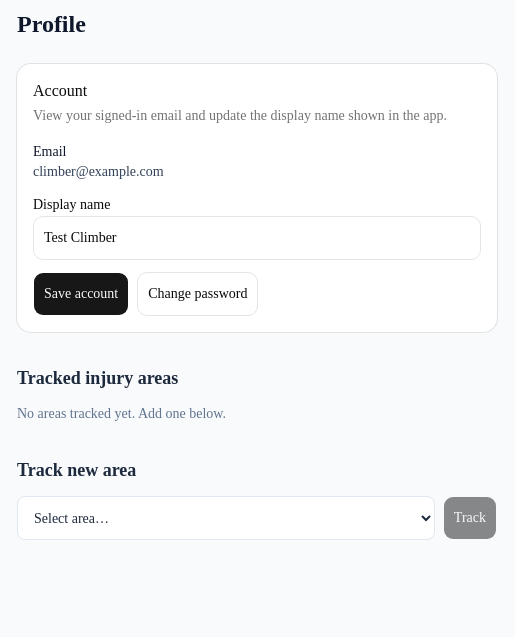
Test: ProfilePage › adds a new area to the list after successful POST
The image size is (515, 637).
Check: the text "No areas tracked yet. Add one below." is shown, box [17, 406, 226, 421]
Select "Shoulder (left)" in the dropdown named "select area to track" at (226, 518), box [17, 496, 435, 540]
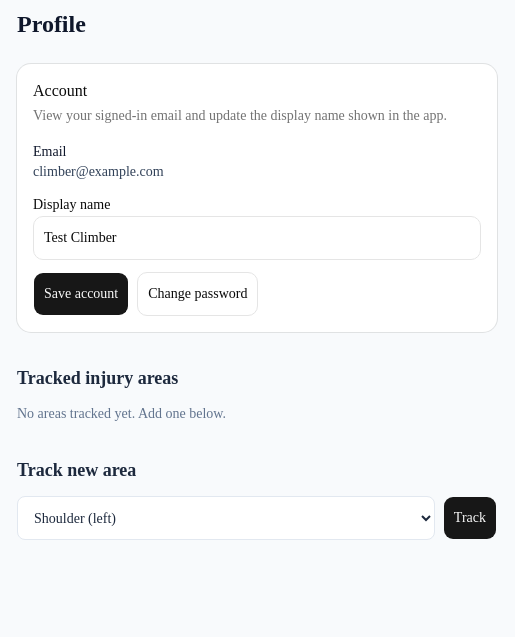
Click the button "Track" at (470, 518), box [443, 496, 497, 540]
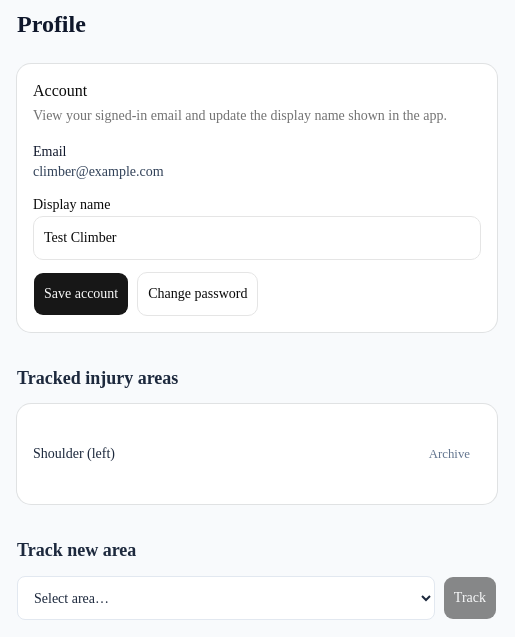
Check: the text "Shoulder (left)" is shown, box [33, 444, 115, 464]
